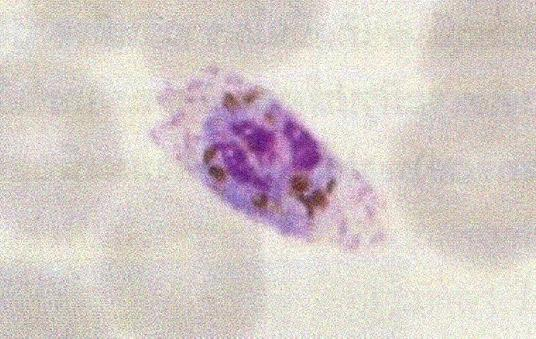Infected: (139, 80, 387, 278)
Uninfected: (0, 67, 142, 264), (268, 0, 439, 161), (412, 98, 536, 289)
